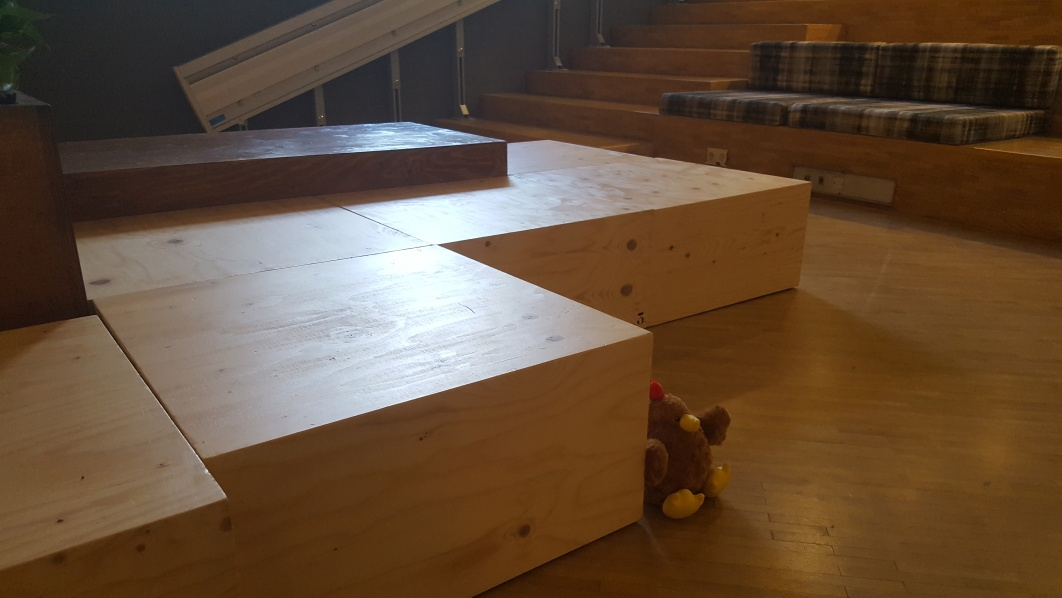chicken: (643, 379, 733, 519)
